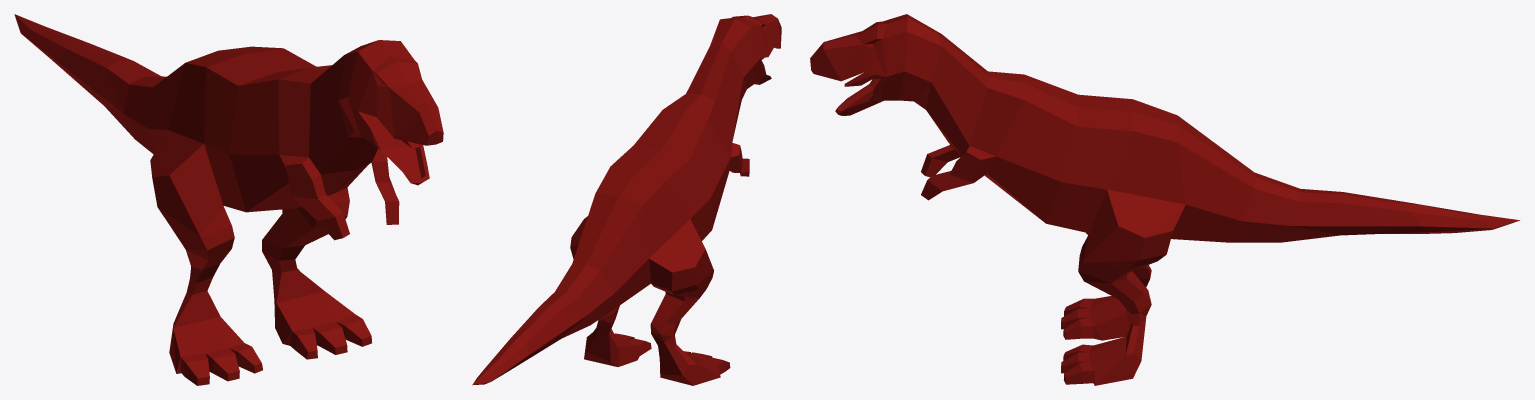
The model's file is t-rex with UV.fbx.
3 views of the same model, side by side, from view 1: azimuth 30°, elevation 25°; view 2: azimuth 150°, elevation 25°; view 3: azimuth 270°, elevation 25° (orthographic). The views are drawn at different scales.
Visible parts, largest first — view 1: t-rex; view 2: t-rex; view 3: t-rex.
Part boxes in pixels (left/top/right/bottom): t-rex: left=14, top=14, right=443, bottom=385; t-rex: left=472, top=14, right=781, bottom=385; t-rex: left=810, top=14, right=1519, bottom=385.
Bounding box in the file's own units: 222 × 458 × 891.
